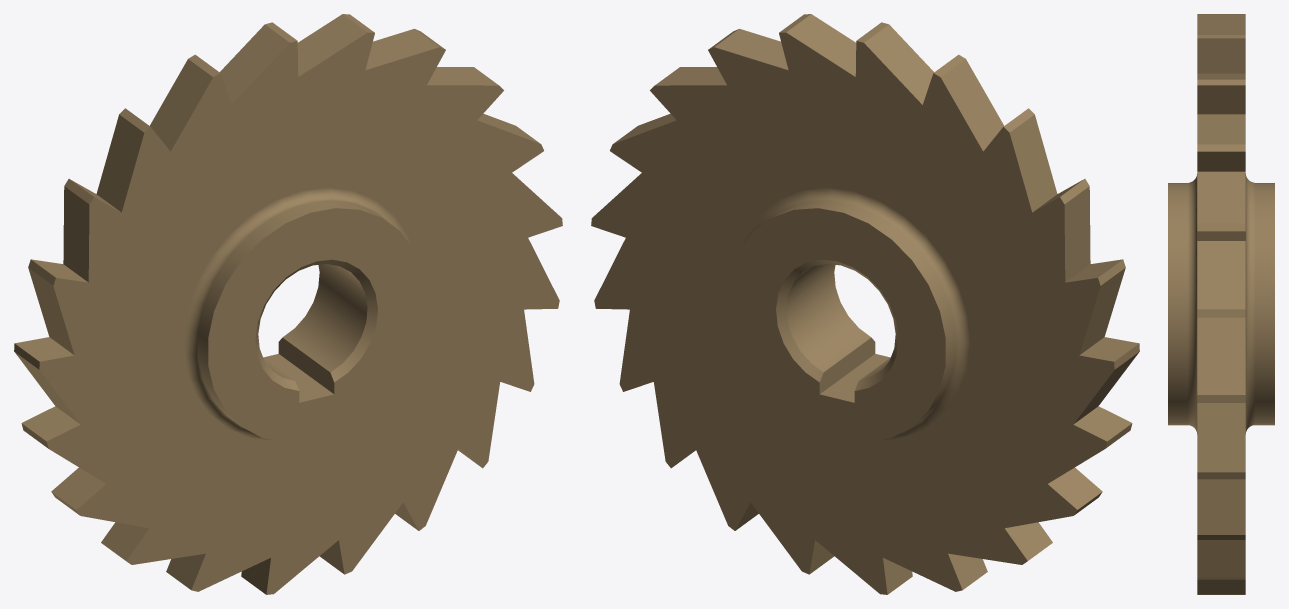
3 views of the same model, side by side, from view 1: azimuth 30°, elevation 25°; view 2: azimuth 150°, elevation 25°; view 3: azimuth 270°, elevation 25° (orthographic). The views are drawn at different scales.
Parts seen in each view (by area): view 1: Body1; view 2: Body1; view 3: Body1.
Boxes of the visible parts, x1,y1,x2,y2 form: Body1: [14, 14, 562, 594]; Body1: [591, 14, 1139, 594]; Body1: [1168, 14, 1274, 594].
Bounding box in the file's own units: 11.97 × 11.96 × 2.2.
